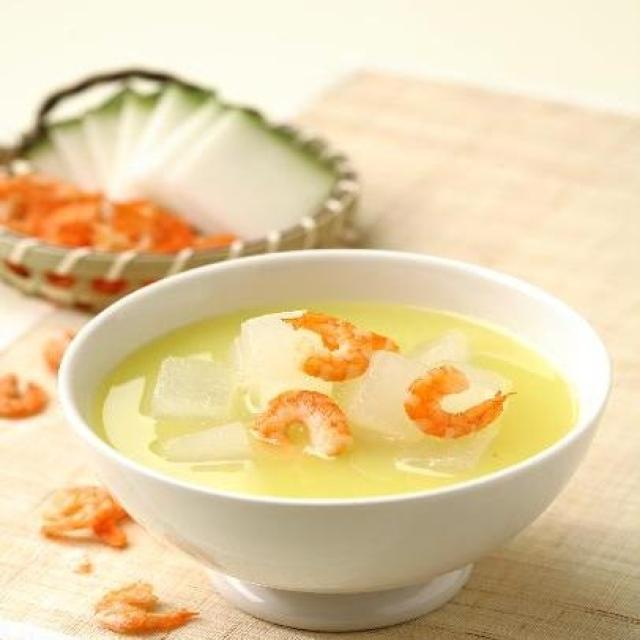汤锅炖物: (86, 236, 560, 508)
